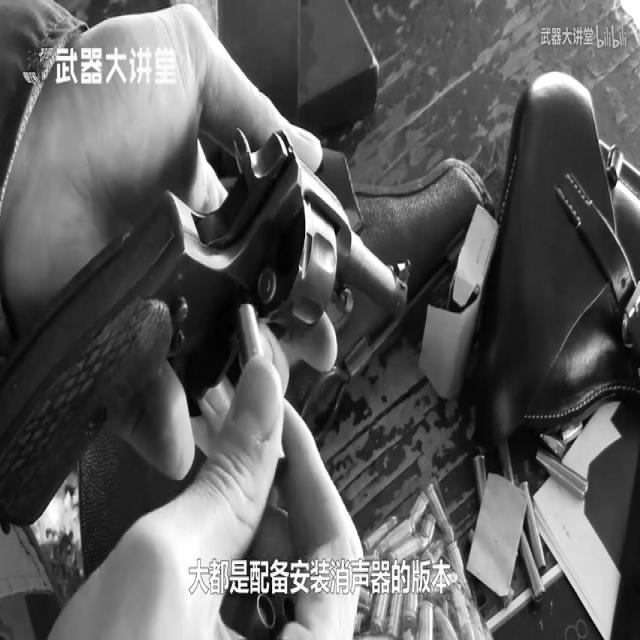Short-Gun: (0, 133, 441, 587)
